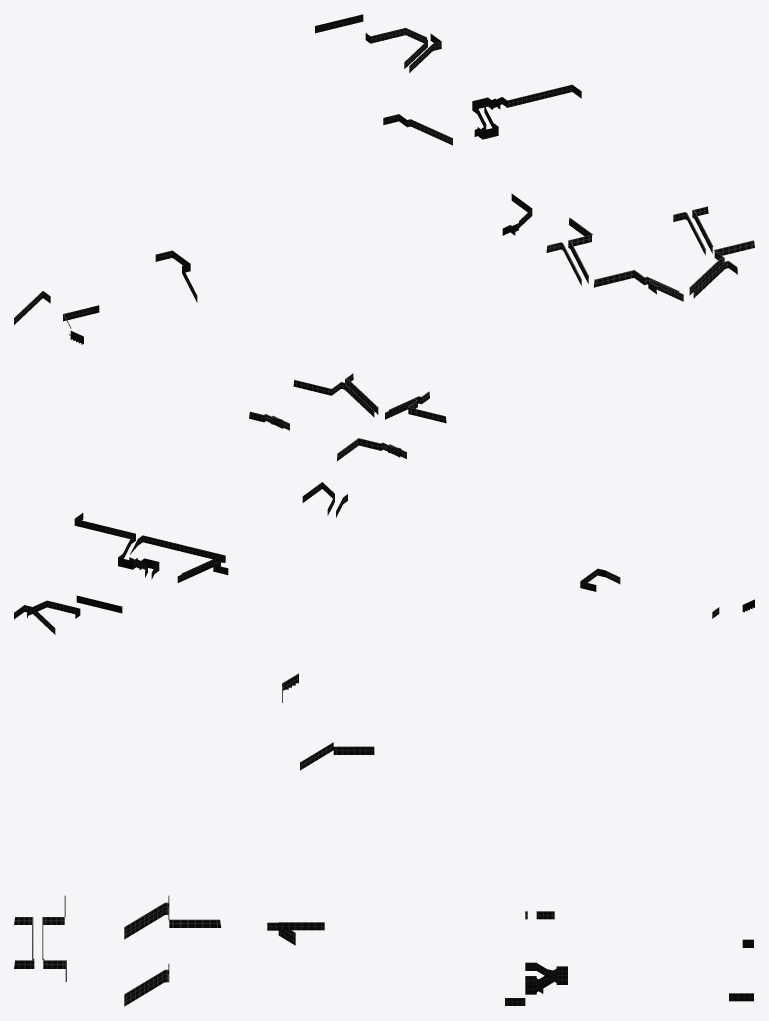
File: Facility_Alpha_13.glb
3 renders of one model, top to bottom at view 1: azimuth 30°, elevation 25°; view 2: azimuth 150°, elevation 25°; view 3: azimuth 270°, elevation 25°, orthographic. The views are drawn at different scales.
Parts seen in each view (by area): view 1: Facility_Alpha_13; view 2: Facility_Alpha_13; view 3: Facility_Alpha_13.
Part boxes in pixels (<box>): Facility_Alpha_13: <box>14,14,754,344</box>; Facility_Alpha_13: <box>14,373,754,634</box>; Facility_Alpha_13: <box>14,673,753,1006</box>.
Size of the model in its own units: 1438 by 128 by 1318.
1 material, 1 textured.
